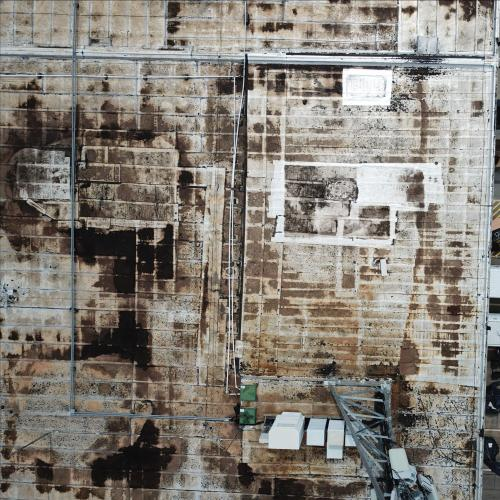conde: (377, 258, 391, 279)
